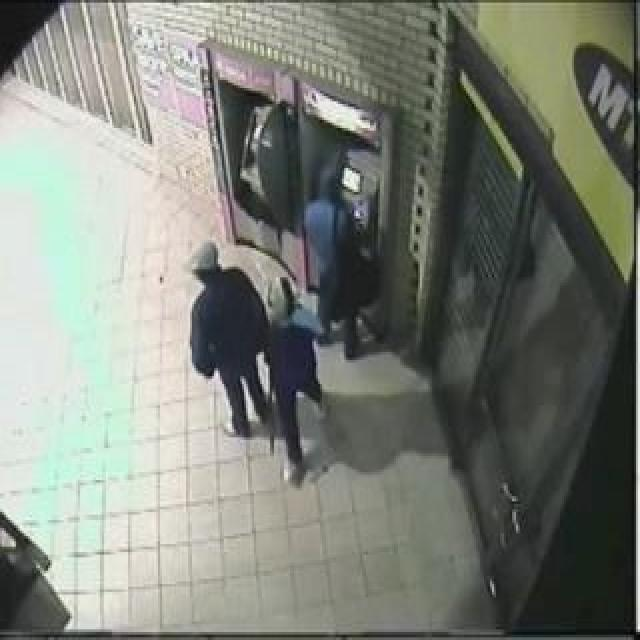thief: (186, 206, 349, 365)
